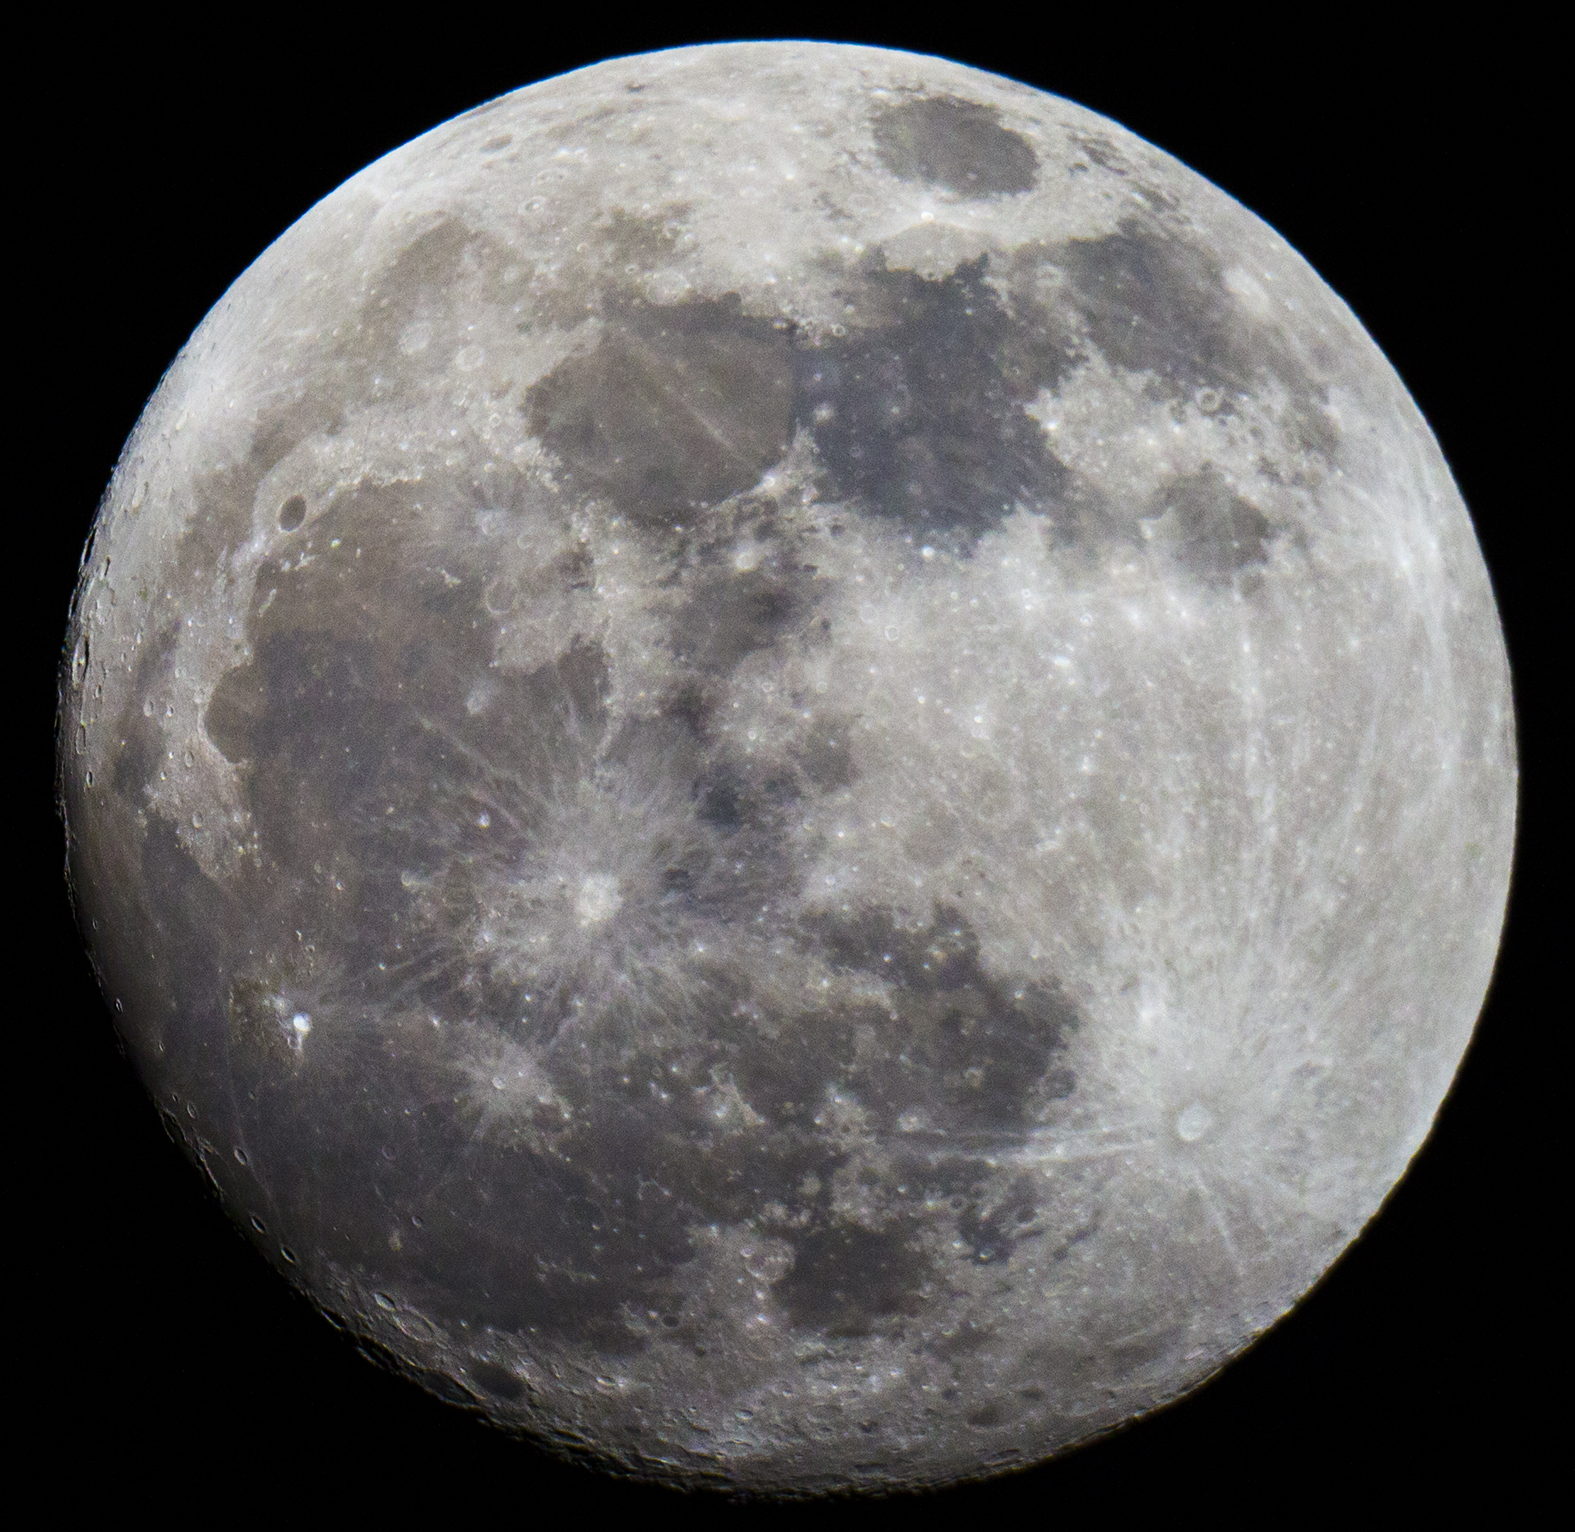crater: (1140, 1064, 1235, 1187), (714, 1228, 818, 1310), (541, 862, 638, 945), (255, 474, 342, 560), (457, 1047, 547, 1128), (364, 1284, 463, 1353), (433, 665, 519, 724), (633, 260, 713, 318), (1022, 1057, 1095, 1118), (278, 988, 335, 1064), (392, 314, 447, 364), (465, 128, 525, 165), (515, 196, 572, 229), (447, 336, 492, 376)
